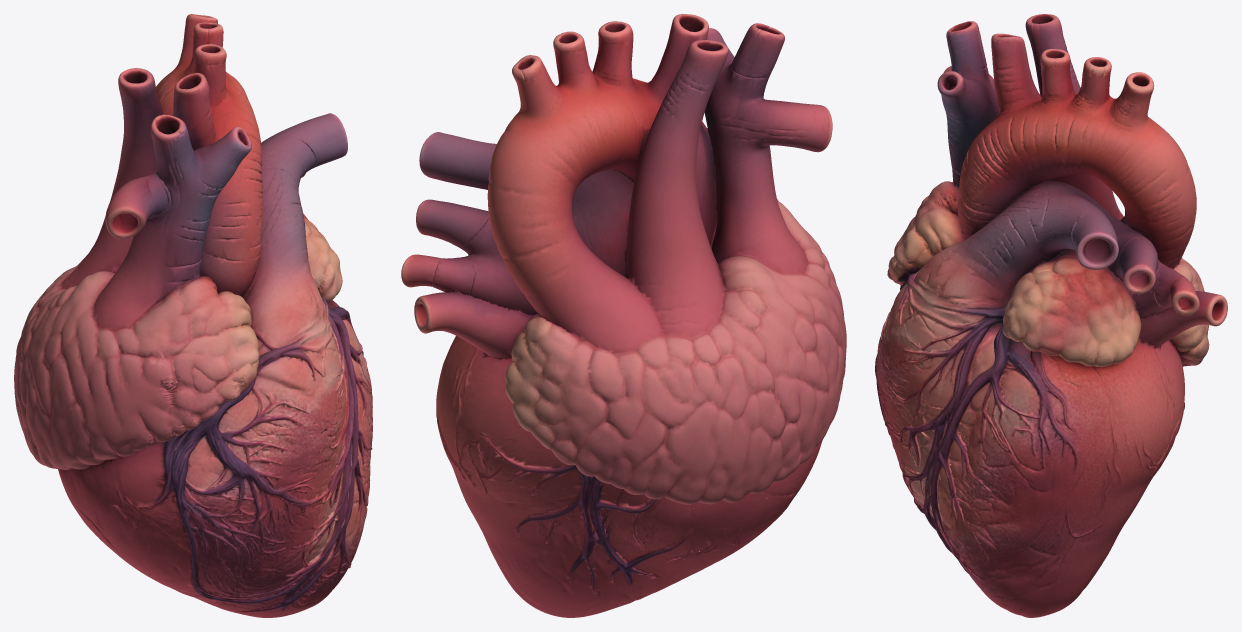
Rendered from heart.glb.
The picture shows the model from 3 angles, left to right: view 1: azimuth 30°, elevation 25°; view 2: azimuth 150°, elevation 25°; view 3: azimuth 270°, elevation 25°; orthographic projection. The views are drawn at different scales.
Visible parts, largest first — view 1: tripo_node_9c16954f-d29a-4a4b-baf4-ba02eda23201; view 2: tripo_node_9c16954f-d29a-4a4b-baf4-ba02eda23201; view 3: tripo_node_9c16954f-d29a-4a4b-baf4-ba02eda23201.
Boxes of the visible parts, <box> form: tripo_node_9c16954f-d29a-4a4b-baf4-ba02eda23201: <box>14,14,372,617</box>; tripo_node_9c16954f-d29a-4a4b-baf4-ba02eda23201: <box>401,14,846,617</box>; tripo_node_9c16954f-d29a-4a4b-baf4-ba02eda23201: <box>875,14,1227,617</box>.
Size of the model in its own units: 0.5968 by 0.9806 by 0.5847.
Materials: 1 (1 with a texture image).
